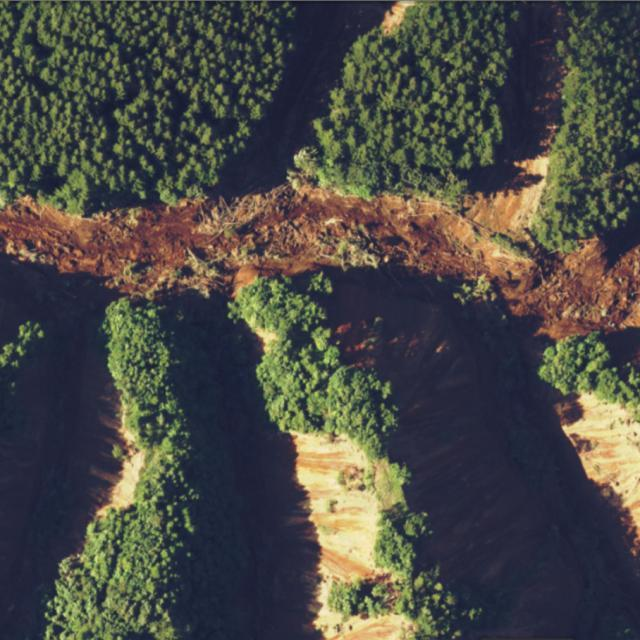landslide: (0, 156, 640, 339), (324, 272, 640, 639), (0, 254, 123, 640), (207, 1, 392, 199), (291, 434, 411, 640)
